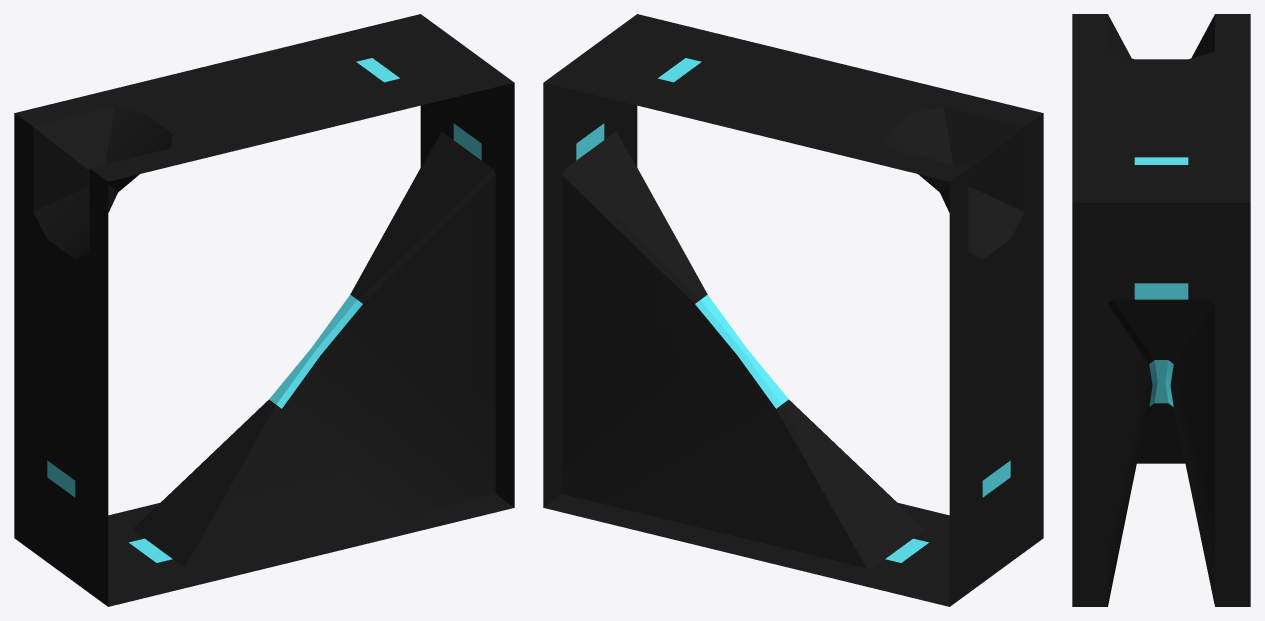
The model's file is diag.FBX.
The picture shows the model from 3 angles, left to right: view 1: azimuth 30°, elevation 25°; view 2: azimuth 150°, elevation 25°; view 3: azimuth 270°, elevation 25°; orthographic projection. The views are drawn at different scales.
Parts seen in each view (by area): view 1: diag; view 2: diag; view 3: diag.
Boxes of the visible parts, x1,y1,x2,y2 form: diag: (14, 14, 514, 606); diag: (543, 14, 1043, 606); diag: (1072, 14, 1250, 606).
Bounding box in the file's own units: 25 × 25 × 10.
